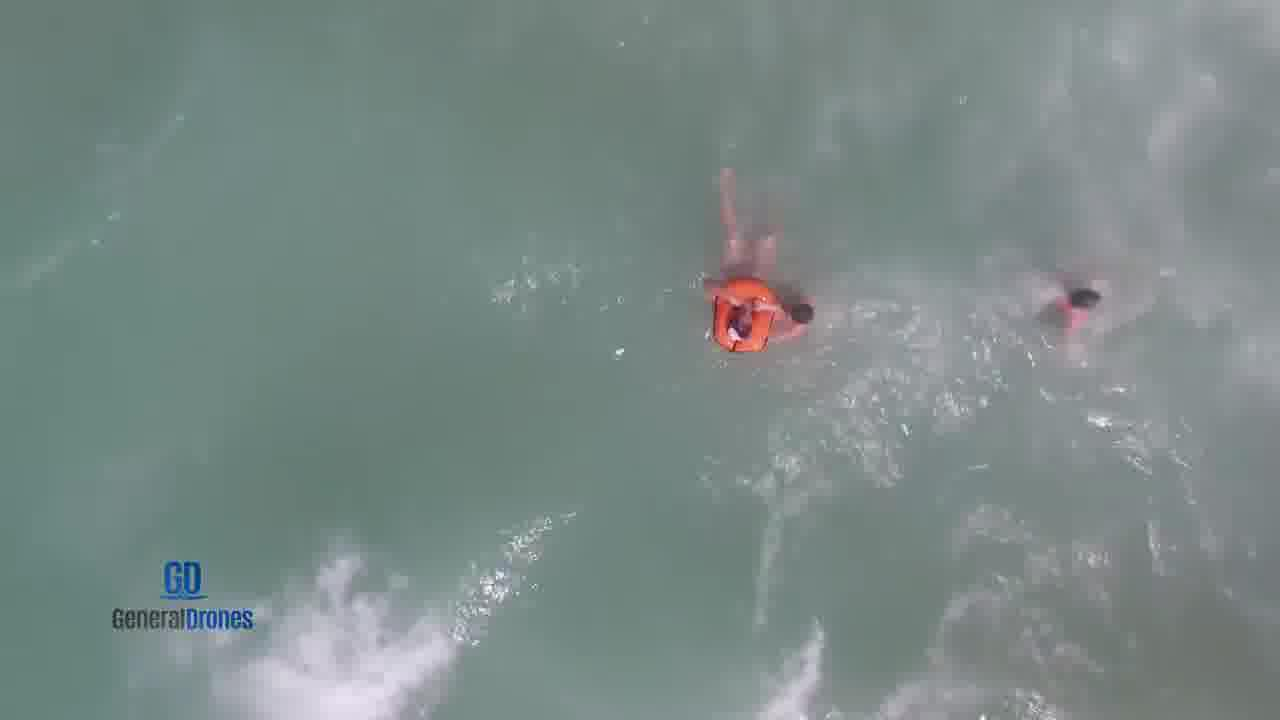human: (1065, 277, 1104, 323), (786, 298, 820, 328), (728, 310, 755, 340)
